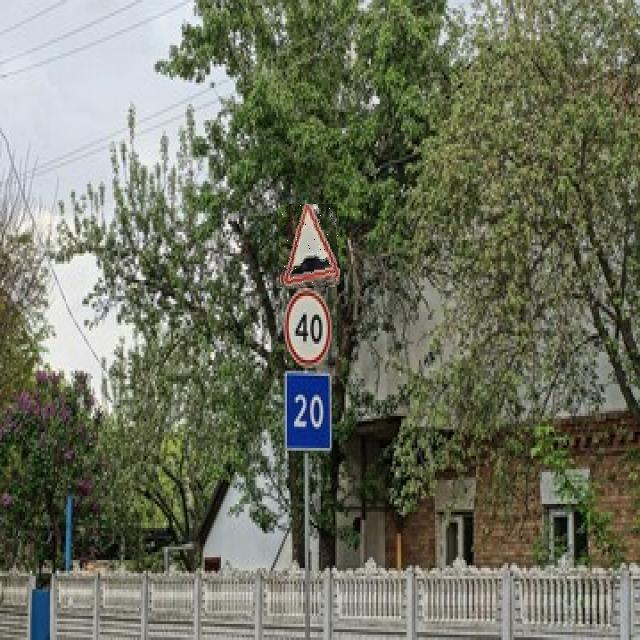hump: (279, 204, 338, 288)
